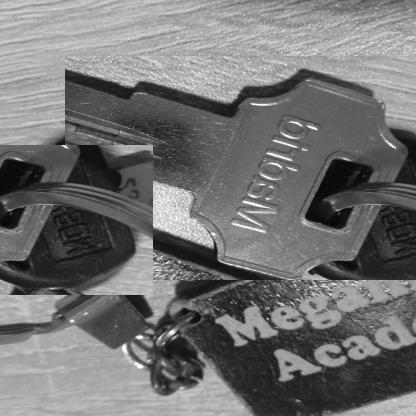key: (65, 56, 416, 280), (0, 145, 153, 295)
